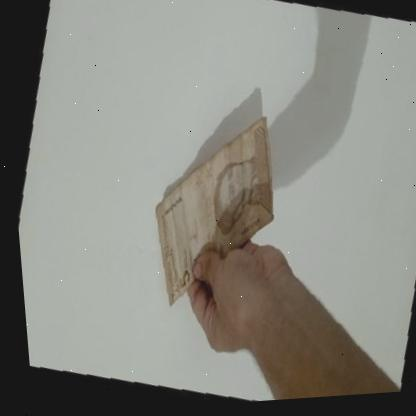five-front-vef: (119, 95, 302, 334)
